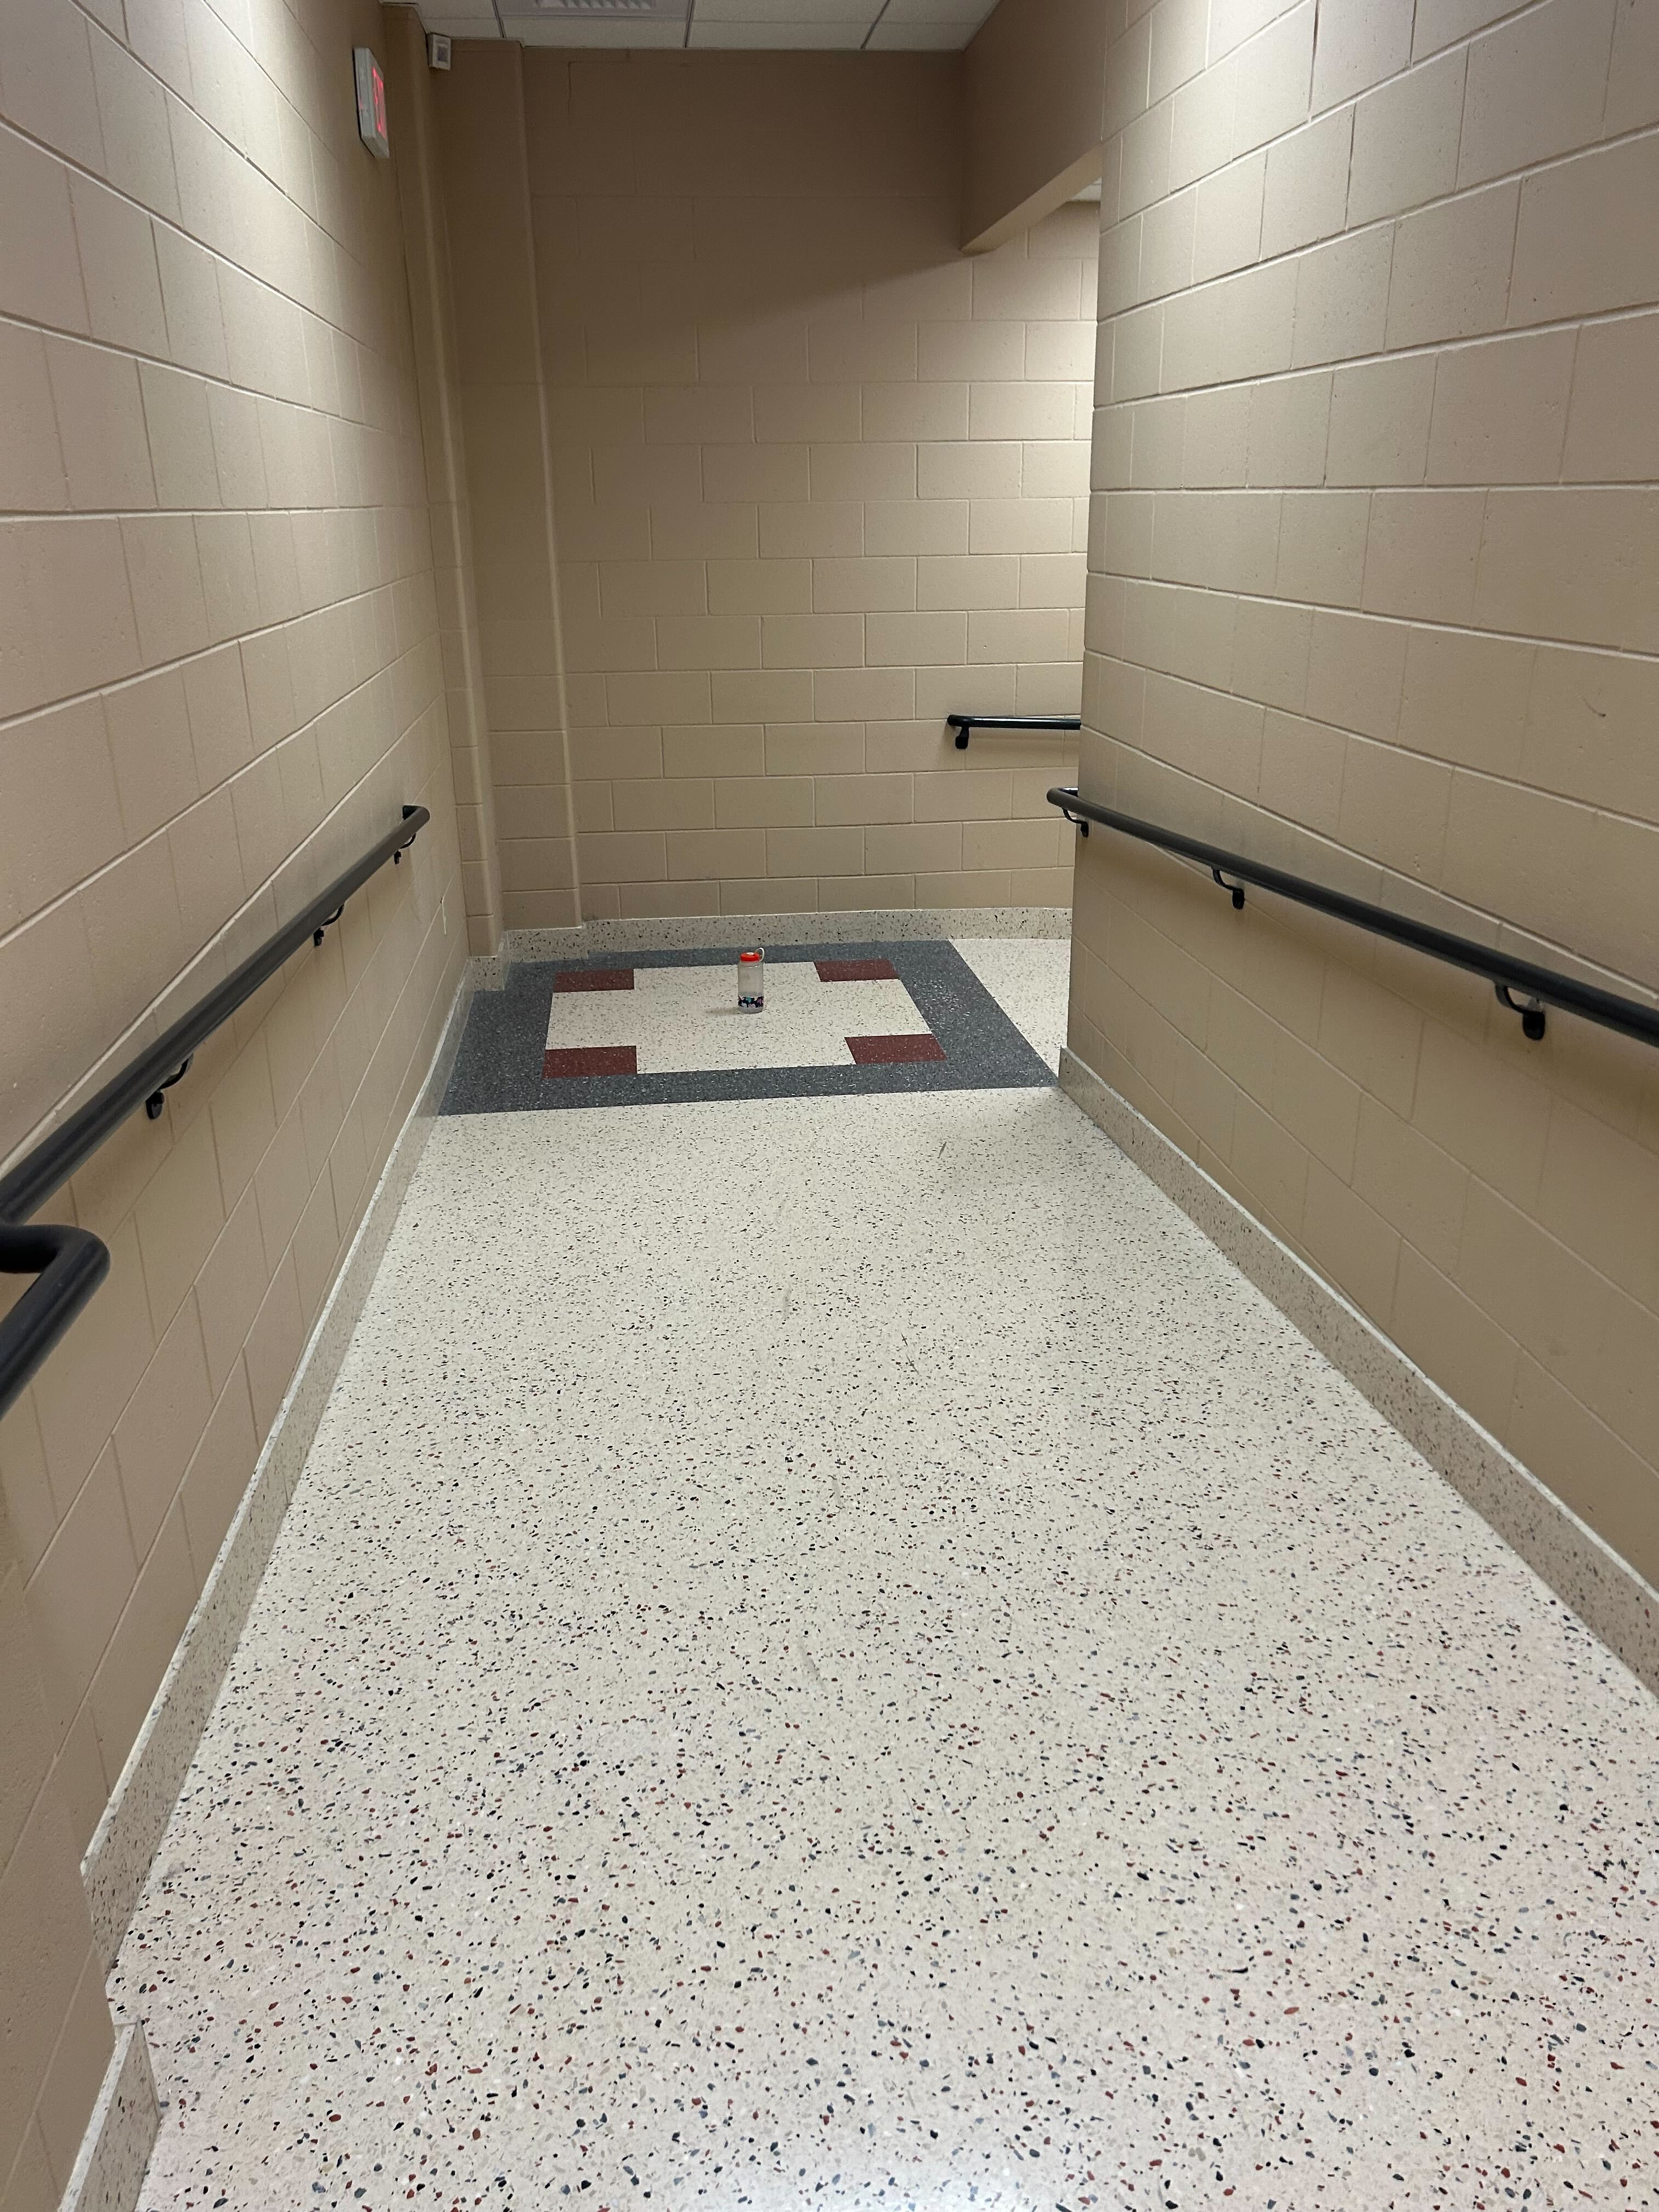bottle: (732, 935, 770, 1017)
